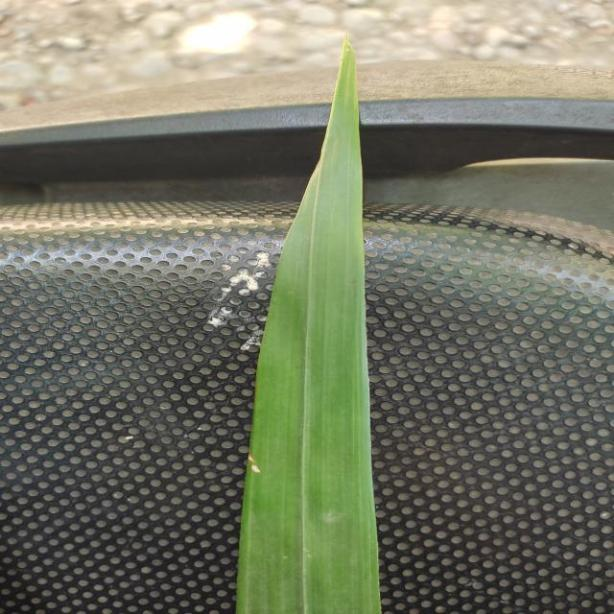Healthy: (237, 40, 385, 614)
